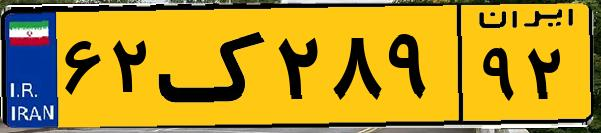2: (270, 28, 330, 110), (525, 38, 570, 115), (110, 28, 158, 98)
6: (57, 26, 110, 100)
8: (330, 28, 385, 110)
9: (385, 28, 445, 110), (475, 38, 525, 113)
ک: (158, 12, 270, 120)
